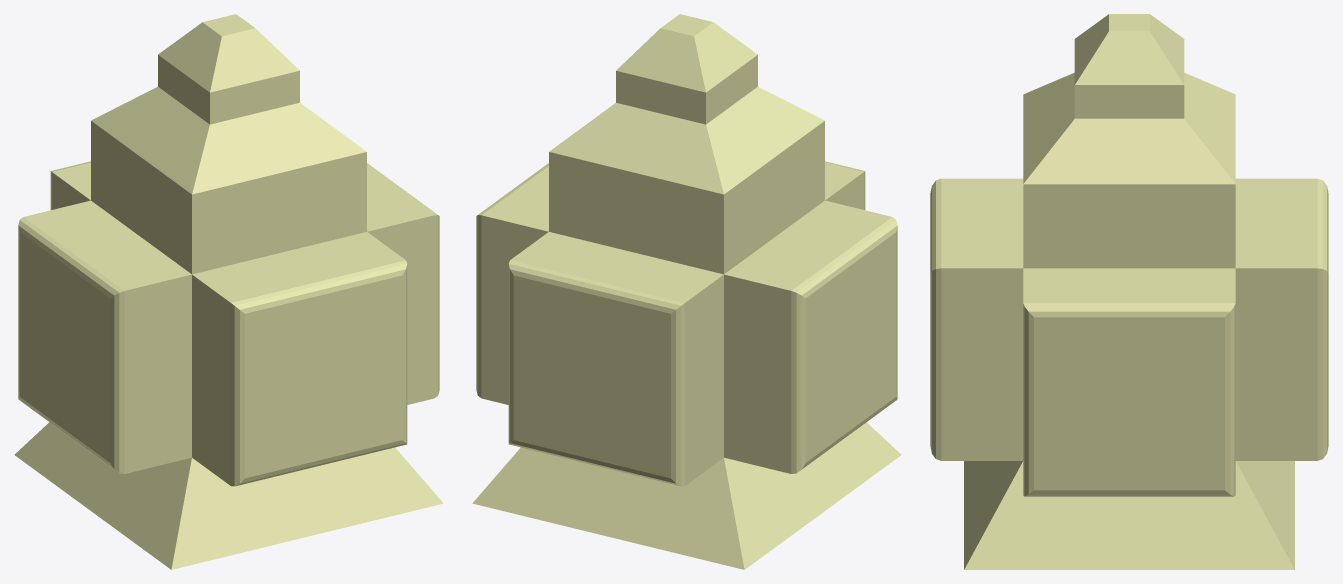
The model's file is example.glb.
The picture shows the model from 3 angles, left to right: view 1: azimuth 30°, elevation 25°; view 2: azimuth 150°, elevation 25°; view 3: azimuth 270°, elevation 25°; orthographic projection. The views are drawn at different scales.
Parts seen in each view (by area): view 1: Cube; view 2: Cube; view 3: Cube.
Part boxes in pixels (bbox=[...]): Cube: bbox=[14, 14, 443, 569]; Cube: bbox=[472, 14, 901, 569]; Cube: bbox=[930, 14, 1328, 569].
Size of the model in its own units: 3.75 by 4.96 by 3.75.
